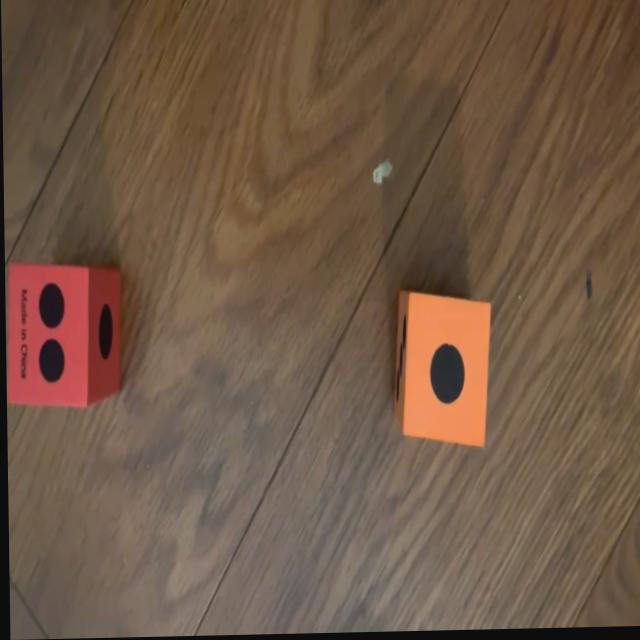cube: (3, 264, 123, 410)
